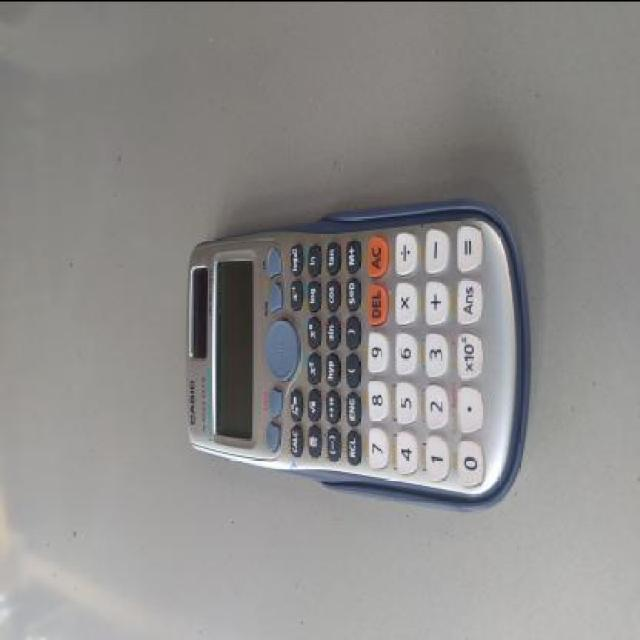Calculator: (168, 181, 530, 513)
